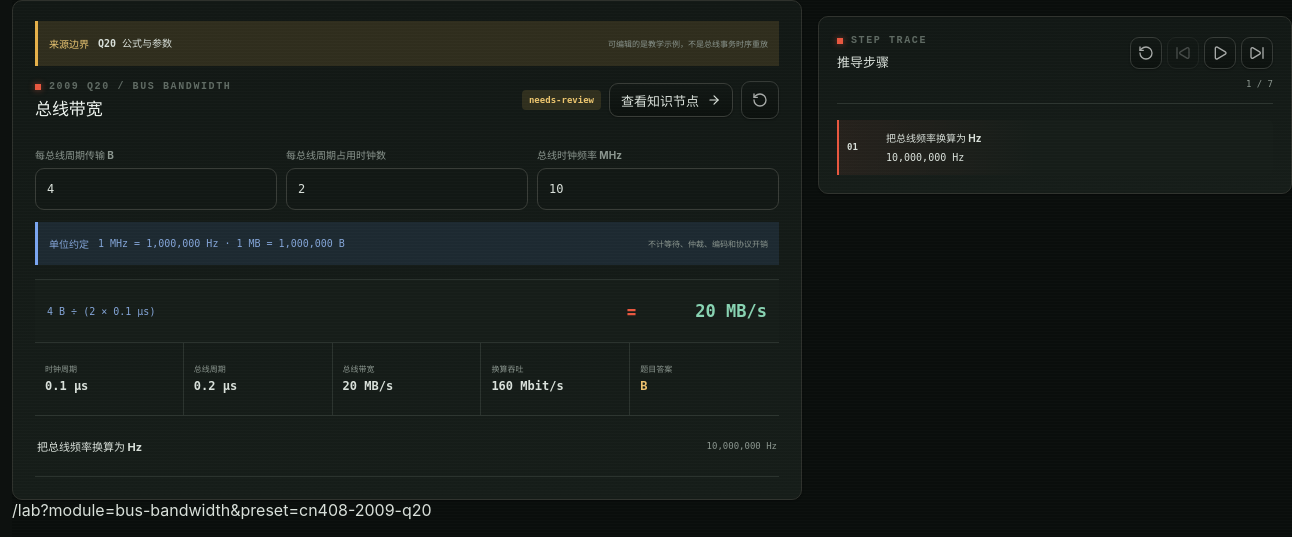
it: BusBandwidthLabPanel › keeps the current derivation synchronized with step and reset controls
Expected: the element named "当前推导事件" shows "把总线频率换算为 Hz", [37, 440, 142, 454]
Click the button named "下一步": (1257, 53) [1241, 37, 1273, 69]
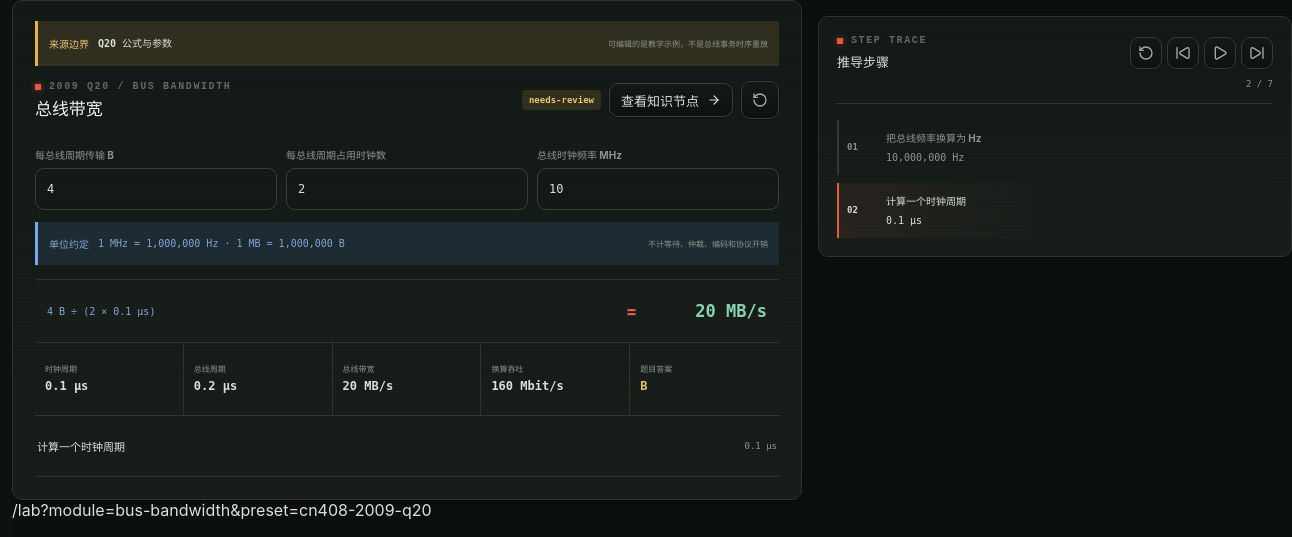
Now the element named "当前推导事件" shows "计算一个时钟周期", box [37, 440, 125, 454]
Click the button named "播放步骤": (1220, 53) [1204, 37, 1236, 69]
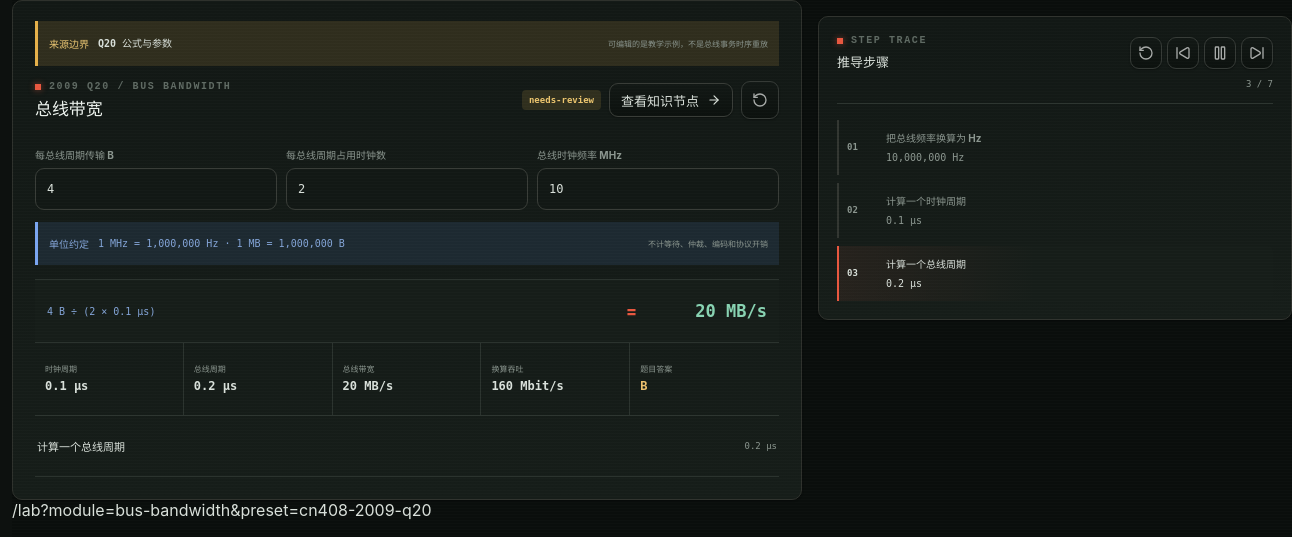
Expected: the element named "当前推导事件" does not show "计算一个时钟周期", [35, 416, 779, 477]
Click the button named "暂停步骤": (1220, 53) [1204, 37, 1236, 69]
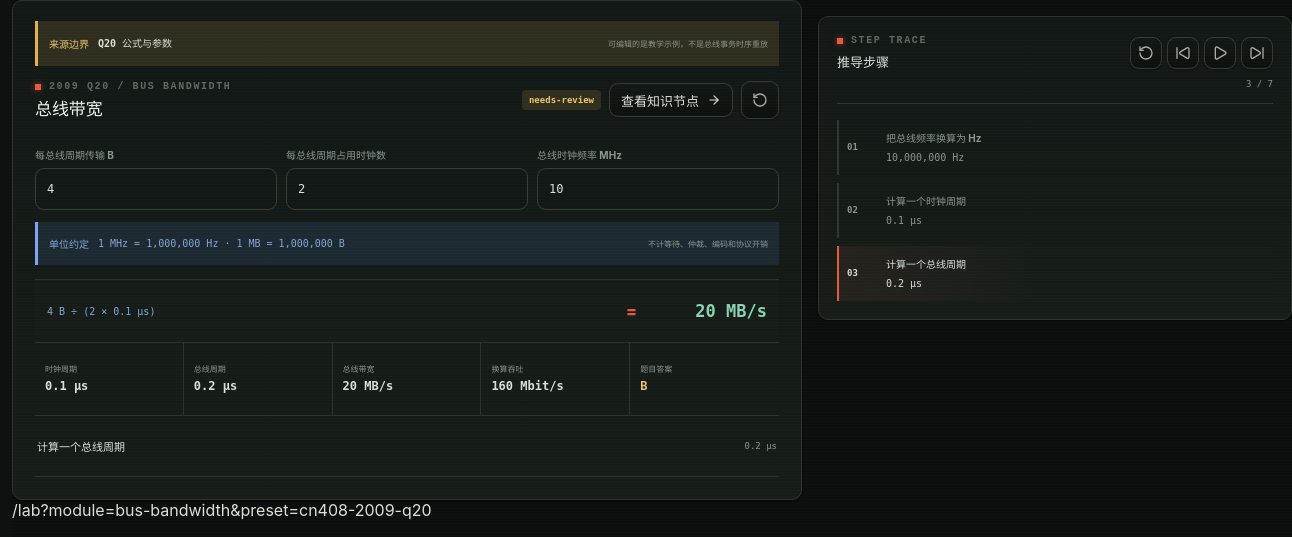
Click the button named "复位步骤": (1146, 53) [1130, 37, 1162, 69]
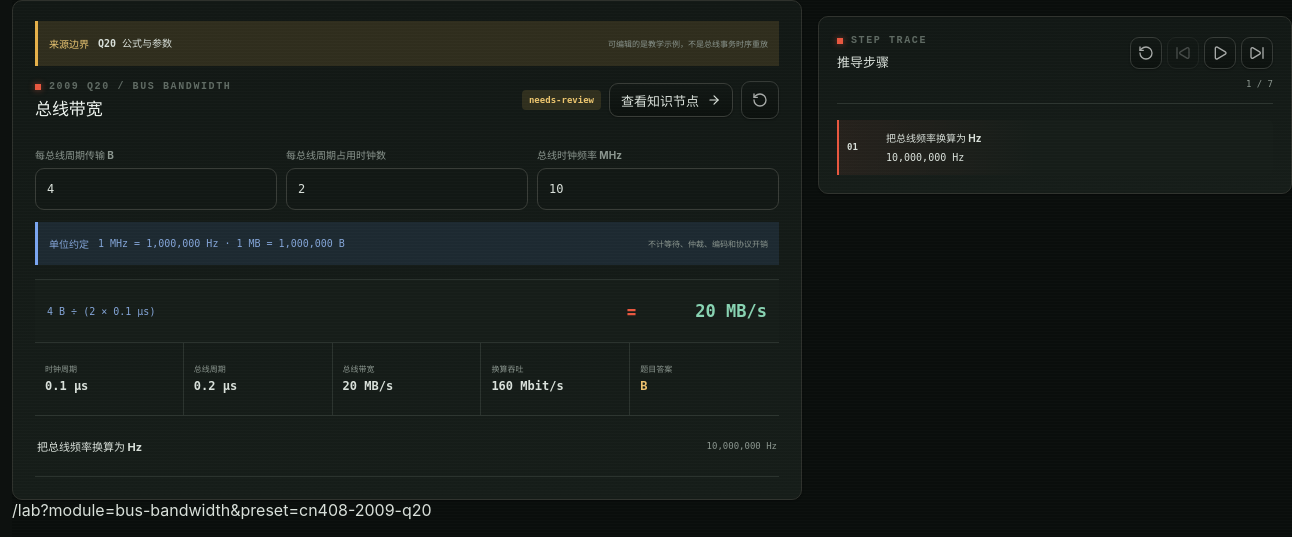
Now the element named "当前推导事件" shows "把总线频率换算为 Hz", box [37, 440, 142, 454]
